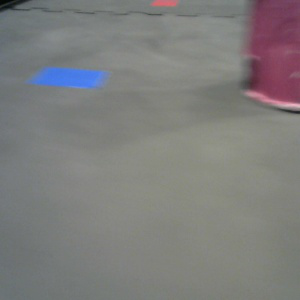Right: (240, 1, 300, 110)
